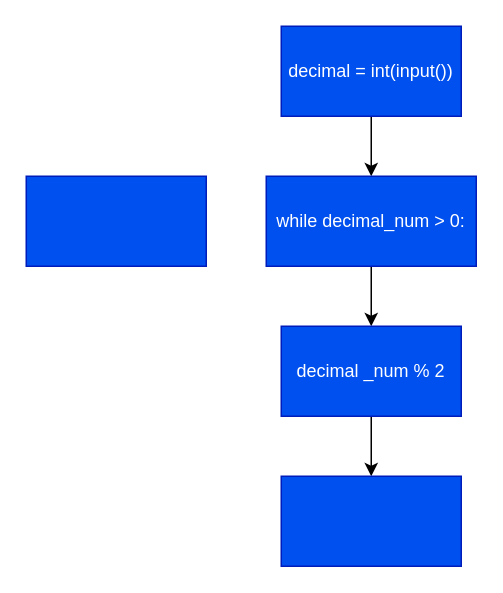
Some shapes in this 503 by 593 pixel diagram are drawn without their labels. Each missing label, with the box of its shape:
binary_rep = " ": (25, 175, 206, 266)
decimal_num // 2: (280, 475, 461, 566)
